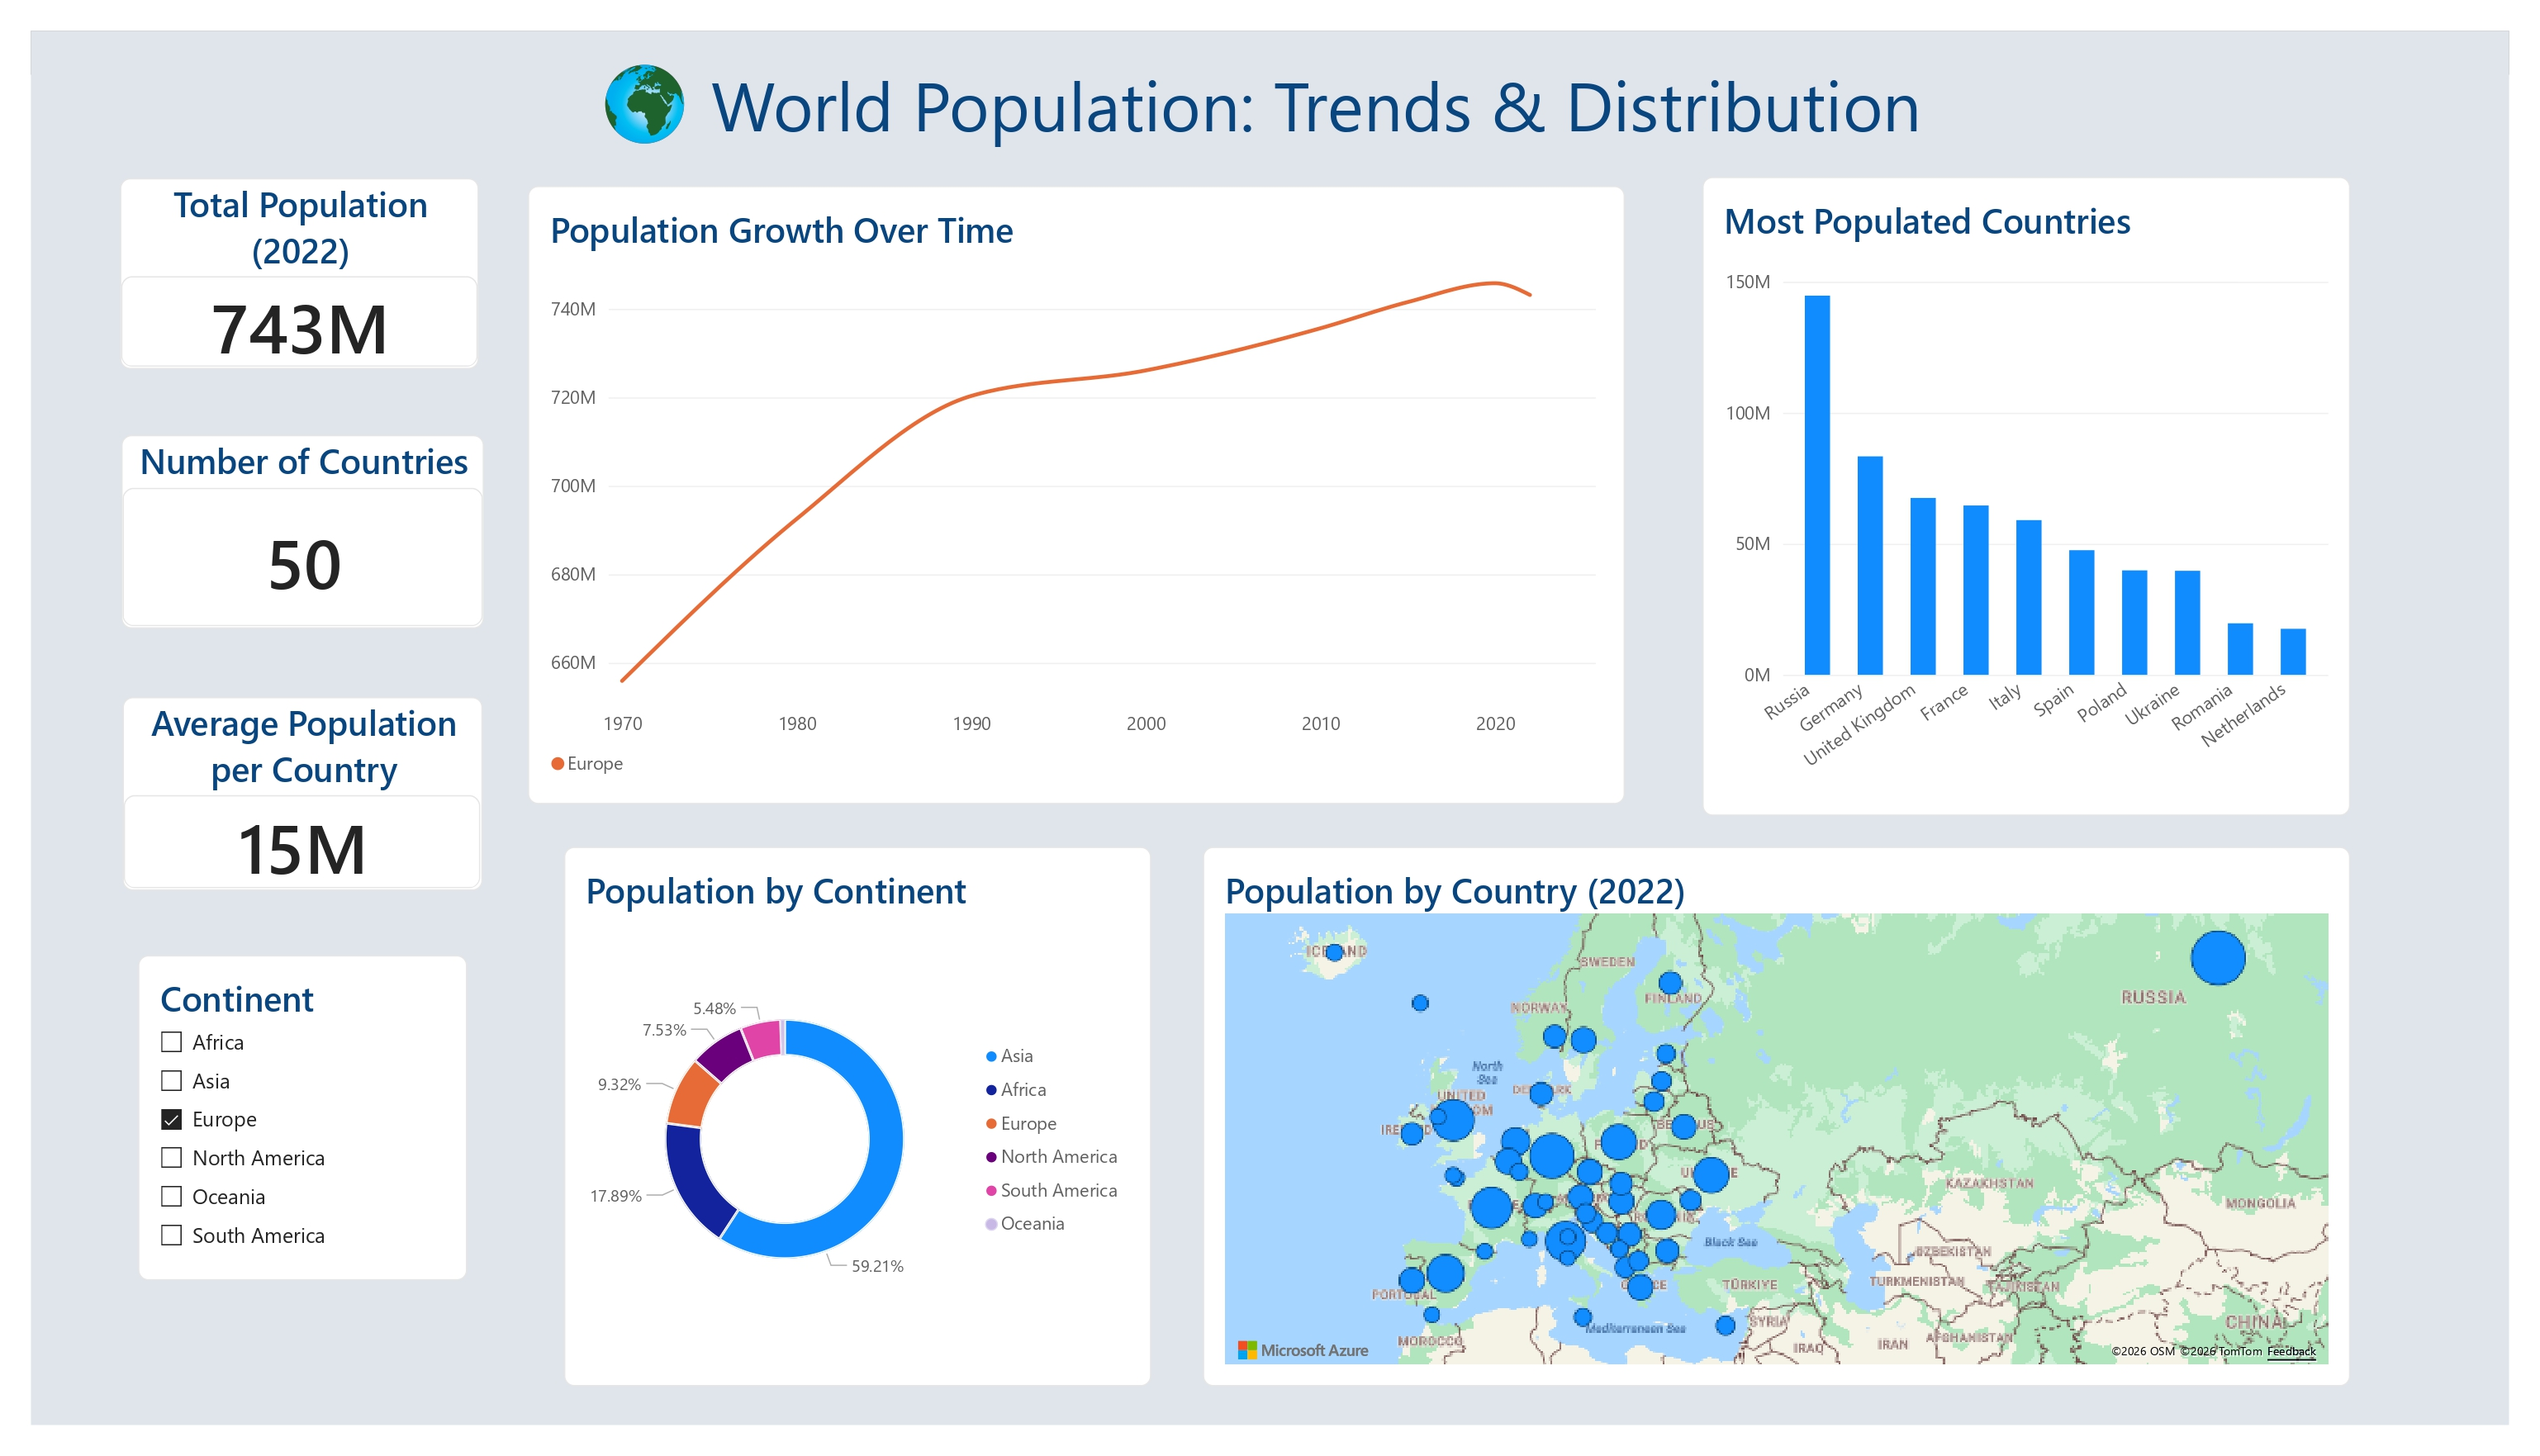

The page's visual inventory and layout, read from the dashboard file:
{"tool":"powerbi","page":{"name":"Page 1","canvas":[1920,1080],"ordinal":0},"visuals":[{"type":"cardVisual","title":"Total Population (2022)","fields":{"Data":["Medidas.Población Mundial 2022"]},"box":[68.8,114,278.7,148.4],"z":0},{"type":"cardVisual","title":"Average Population per Country","fields":{"Data":["Medidas.Poblacion_promedio"]},"box":[71.1,515.8,278.9,150],"z":1000},{"type":"image","box":[442.5,19.9,67.3,72.4],"z":2000,"group":"g1"},{"type":"cardVisual","title":"Number of Countries","fields":{"Data":["Medidas.Cantidad_paises"]},"box":[69.7,313.2,281.6,150],"z":3000},{"type":"clusteredColumnChart","title":"Most Populated Countries","fields":{"Category":["PoblacionMundial.País"],"Y":["Sum(PoblacionMundial.2022 Población)"]},"box":[1294.7,113.2,502.6,494.7],"z":4000},{"type":"donutChart","title":"Population by Continent","fields":{"Category":["PoblacionMundial.Continente"],"Y":["Sum(PoblacionMundial.2022 Población)"]},"box":[413.2,631.6,455.3,418.4],"z":5000},{"type":"azureMap","title":"Population by Country (2022)","fields":{"Category":["PoblacionMundial.País"],"Size":["Sum(PoblacionMundial.2022 Población)"]},"box":[907.9,631.6,889.5,418.4],"z":6000},{"type":"lineChart","title":"Population Growth Over Time","fields":{"Category":["PoblacionMundial_duplicado.Año"],"Series":["PoblacionMundial_duplicado.Continente"],"Y":["Sum(PoblacionMundial_duplicado.Valor)"]},"box":[385,120,850,478.8],"z":7000},{"type":"listSlicer","title":"Continent","fields":{"Values":["PoblacionMundial.Continente"]},"box":[82.9,715.8,255.3,252.6],"z":8000},{"type":"textbox","box":[527.5,20.1,950.1,72.4],"z":9000,"group":"g1"},{"type":"group","id":"g1","title":"Group 1","box":[442.5,19.9,1035,72.6],"z":9001}]}

Visuals, with their boxes on the page's 1920x1080 design canvas (x1, y1, x2, y2). These are canvas units, not pixel positions in the 2540x1456 screenshot, which may show the page scaled, cropped or inside an application window:
"Total Population (2022)" cardVisual: <bbox>69, 114, 348, 262</bbox>
"Average Population per Country" cardVisual: <bbox>71, 516, 350, 666</bbox>
image: <bbox>442, 20, 510, 92</bbox>
"Number of Countries" cardVisual: <bbox>70, 313, 351, 463</bbox>
"Most Populated Countries" clusteredColumnChart: <bbox>1295, 113, 1797, 608</bbox>
"Population by Continent" donutChart: <bbox>413, 632, 868, 1050</bbox>
"Population by Country (2022)" azureMap: <bbox>908, 632, 1797, 1050</bbox>
"Population Growth Over Time" lineChart: <bbox>385, 120, 1235, 599</bbox>
"Continent" listSlicer: <bbox>83, 716, 338, 968</bbox>
textbox: <bbox>528, 20, 1478, 92</bbox>
"Group 1" group: <bbox>442, 20, 1478, 92</bbox>
